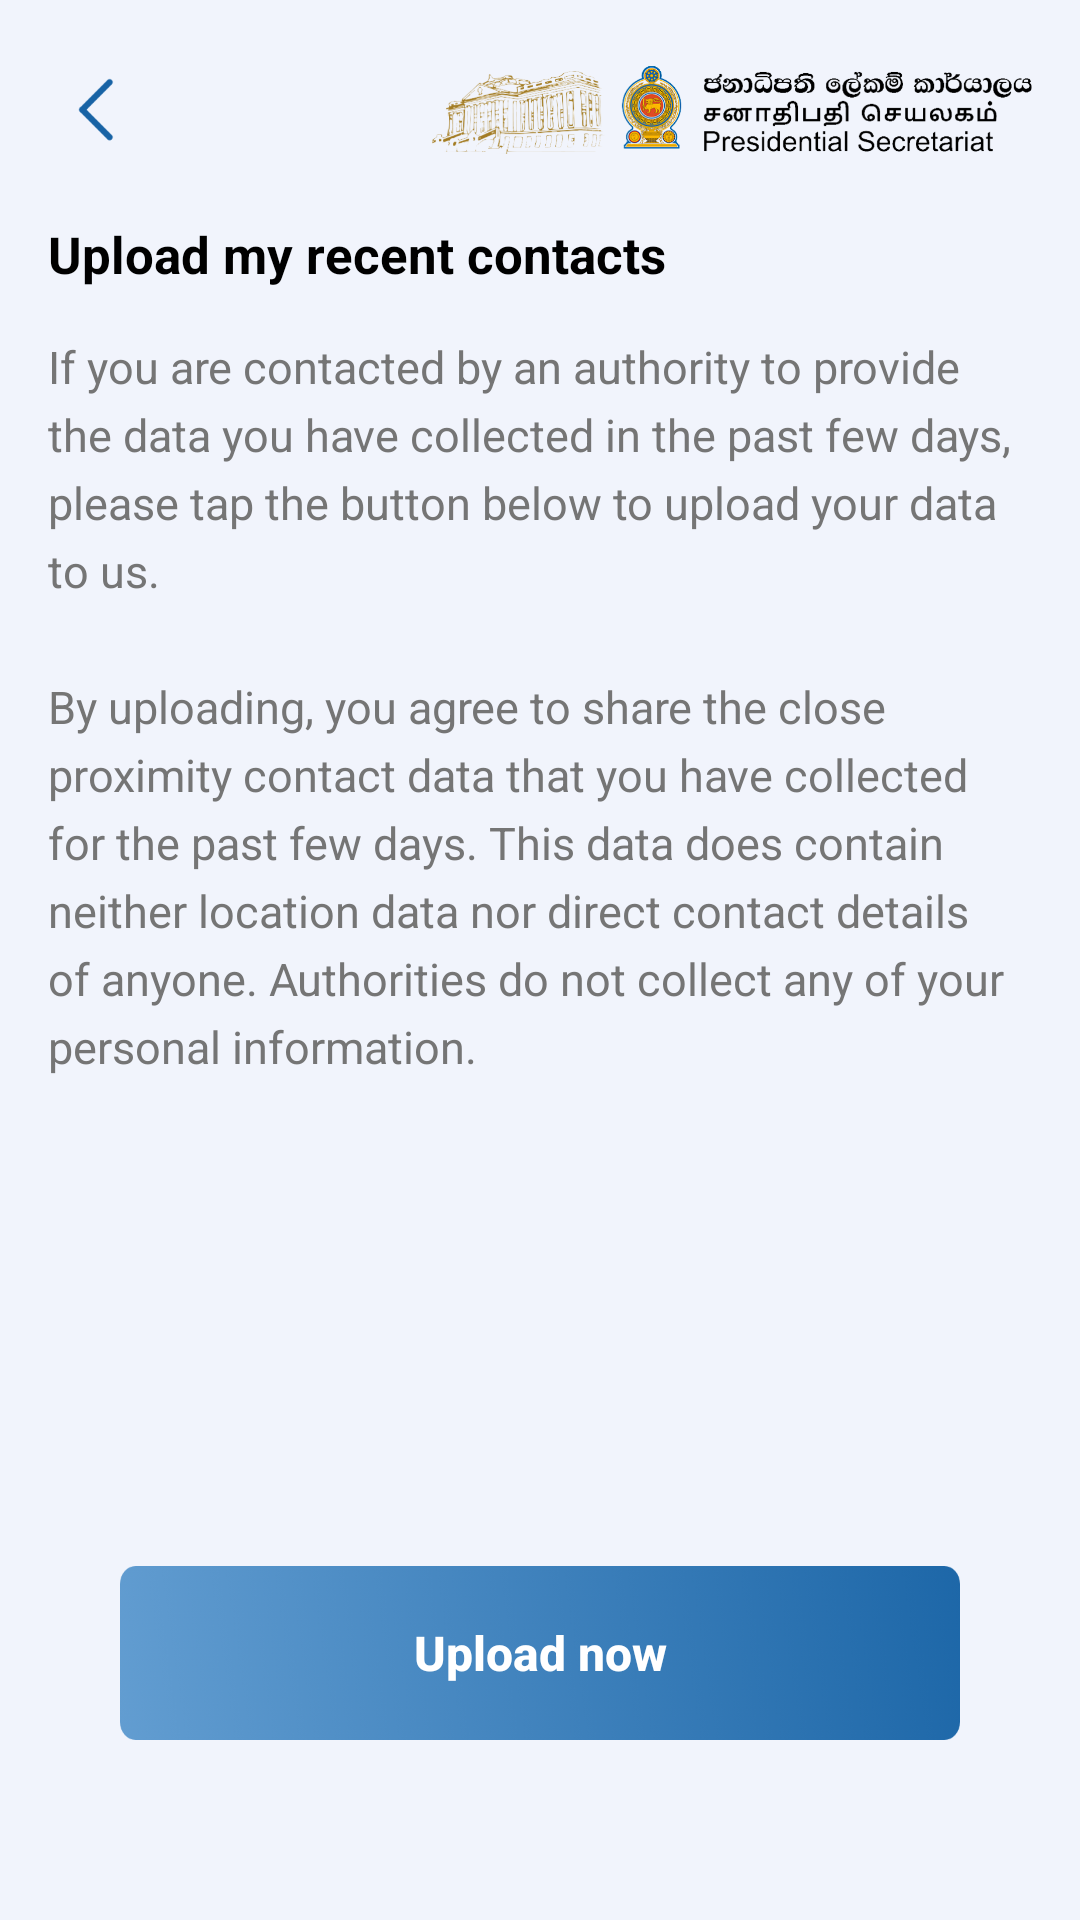

Locate icon controls on the screen. Image size 1080x1920, boxes as [x1=x1, y1=y1, x2=x2, y2=y2].
back: [x1=78, y1=79, x2=113, y2=141]
